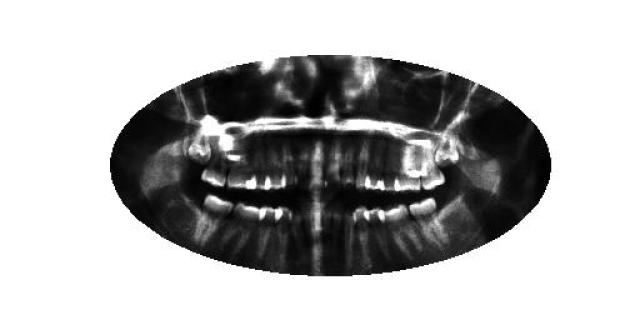Fillings: (226, 148, 258, 192)
Restorations: (186, 130, 214, 166), (434, 132, 461, 168)
